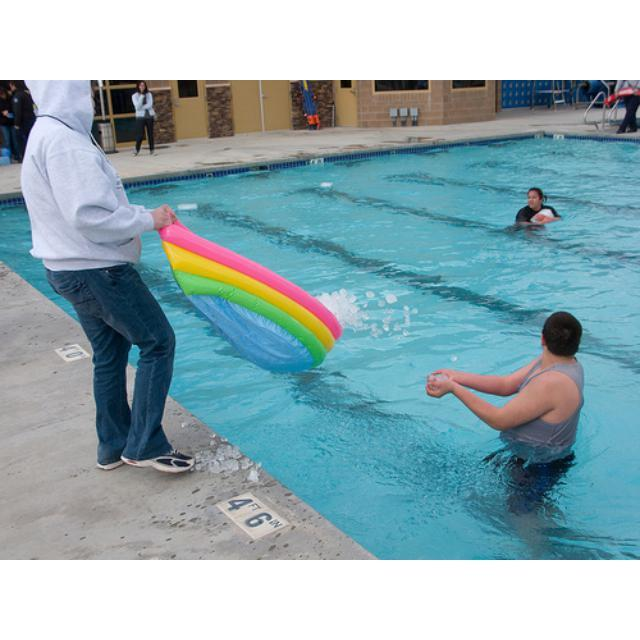human: (424, 309, 587, 475), (509, 184, 564, 231)
